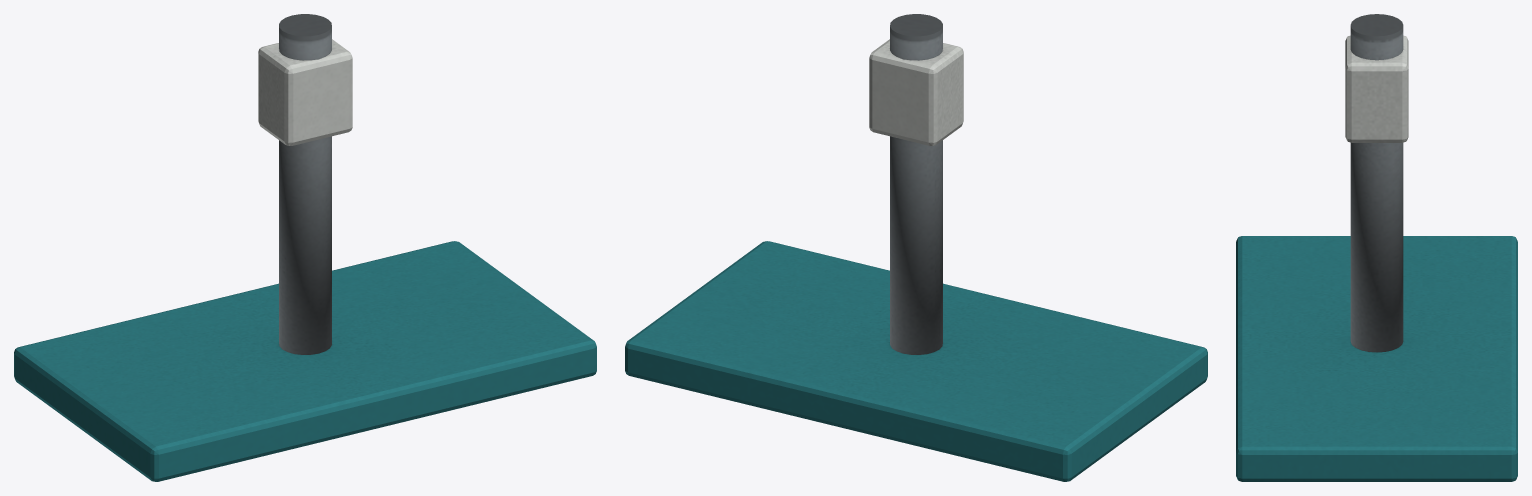
The picture shows the model from 3 angles, left to right: view 1: azimuth 30°, elevation 25°; view 2: azimuth 150°, elevation 25°; view 3: azimuth 270°, elevation 25°; orthographic projection.
Size of the model in its own units: 1.45 by 1.1 by 0.8.
Materials: 1 (1 with a texture image).
